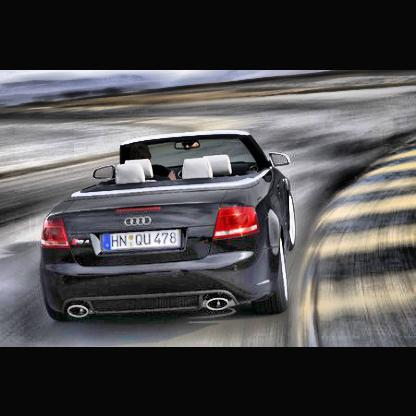Audi RS 4 Convertible 2008: (38, 125, 294, 317)
